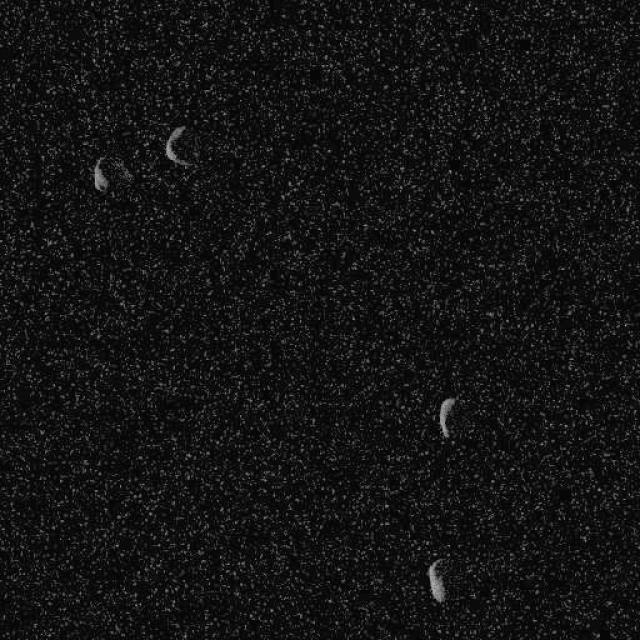D2: (164, 124, 198, 168), (427, 558, 448, 602), (438, 396, 457, 439), (91, 156, 109, 192)
